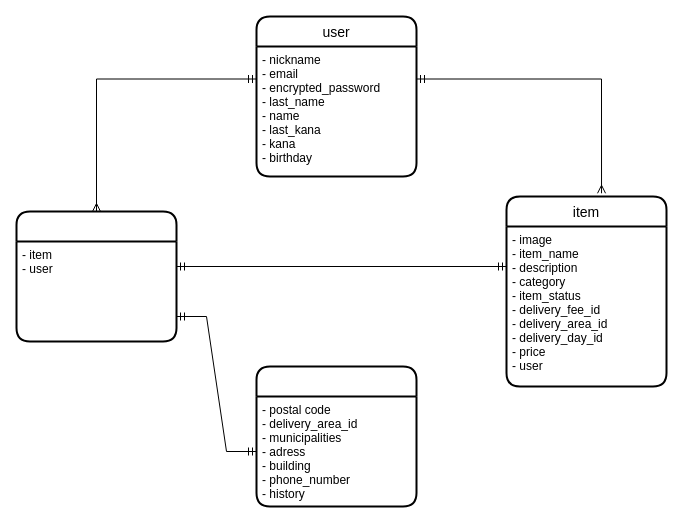
The diagram is 683 pixels wide and 523 high, and some of its shapes have lost their labels. Each missing label, with the box of its shape:
buyer: (255, 365, 417, 507)
history: (15, 210, 177, 342)
